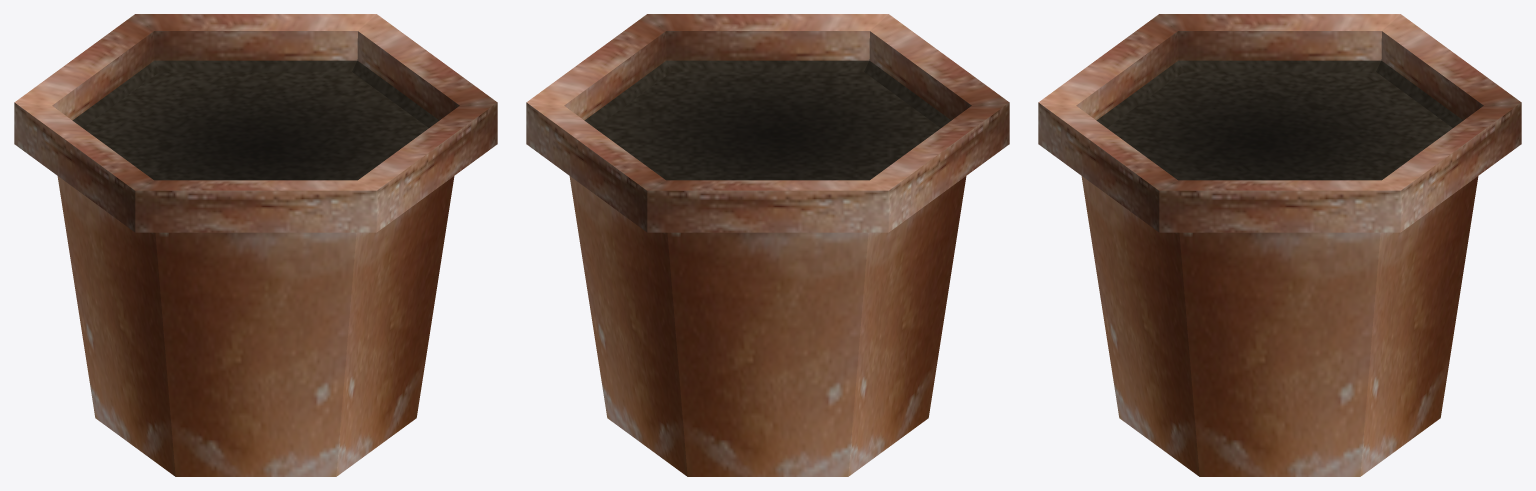
Rendered from pot-2.fbx.
The picture shows the model from 3 angles, left to right: view 1: azimuth 30°, elevation 25°; view 2: azimuth 150°, elevation 25°; view 3: azimuth 270°, elevation 25°; orthographic projection.
Parts seen in each view (by area): view 1: pot; view 2: pot; view 3: pot.
Part boxes in pixels (<box>): pot: <box>14,14,497,476</box>; pot: <box>526,14,1009,476</box>; pot: <box>1038,14,1521,476</box>.
Size of the model in its own units: 41.03 by 34.18 by 47.38.
1 material, 1 textured.
